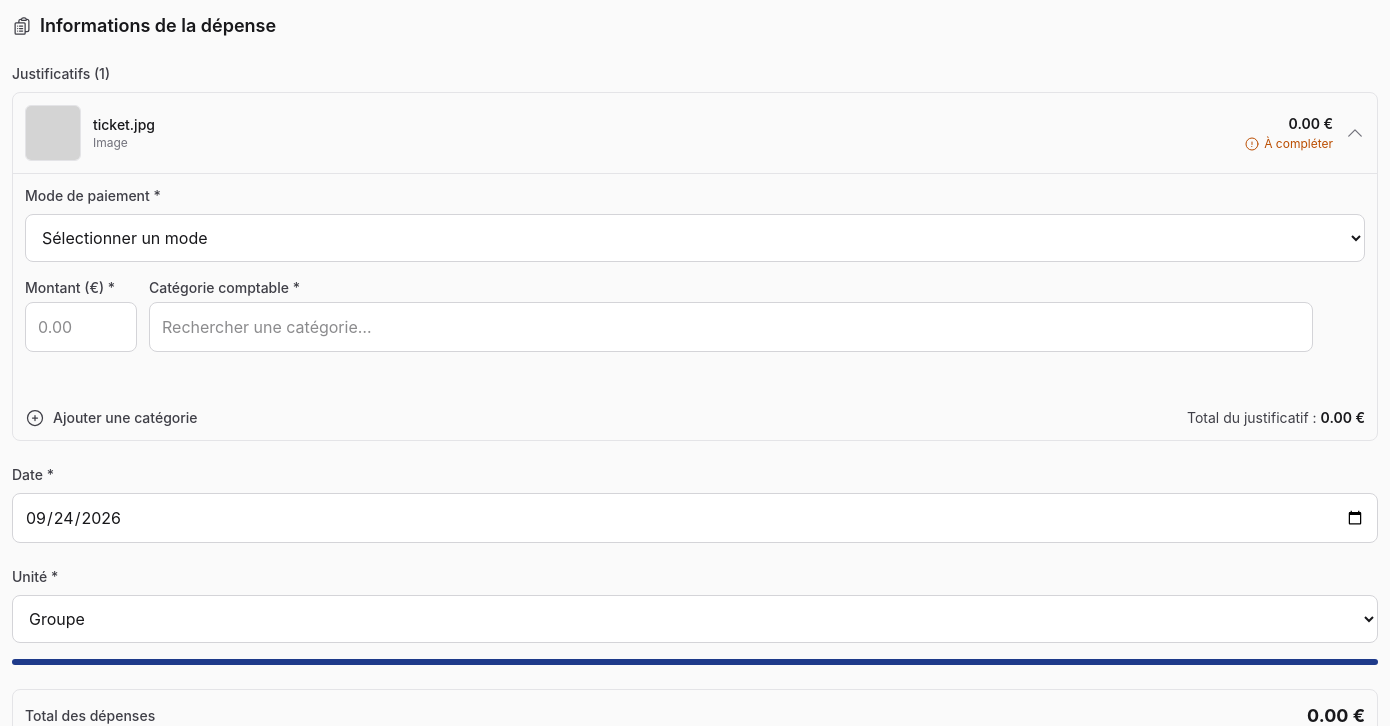
FormulaireDepense › ajoute et retire des lignes de catégorie en calculant le total
Expected: the number of number fields labelled "Montant (€) *" is 1, [25,302,137,352]
Click the button "Ajouter une catégorie".
click(111, 418)  # box [25,408,198,428]
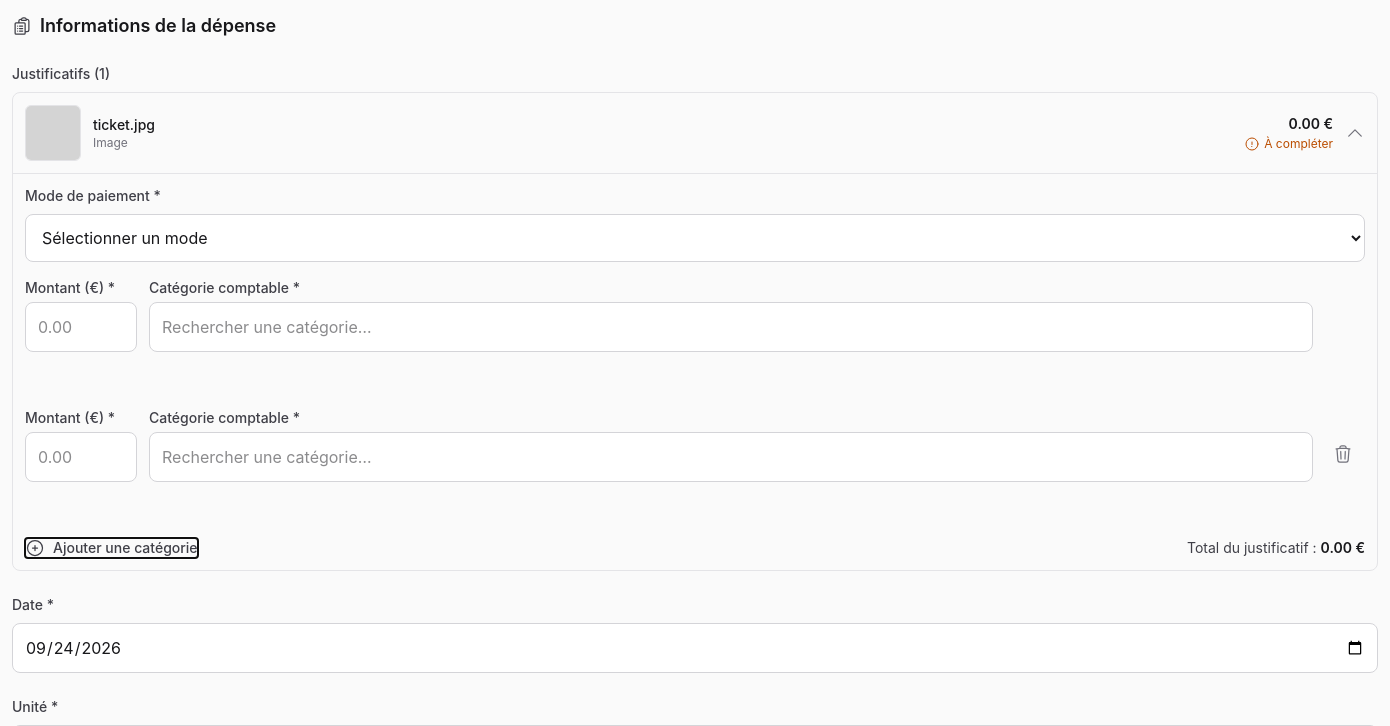
Now the number of number fields labelled "Montant (€) *" is 2
Type "12.5" into the 1st number field labelled "Montant (€) *".
click(81, 327); type("12.5")  # box [25,302,137,352]
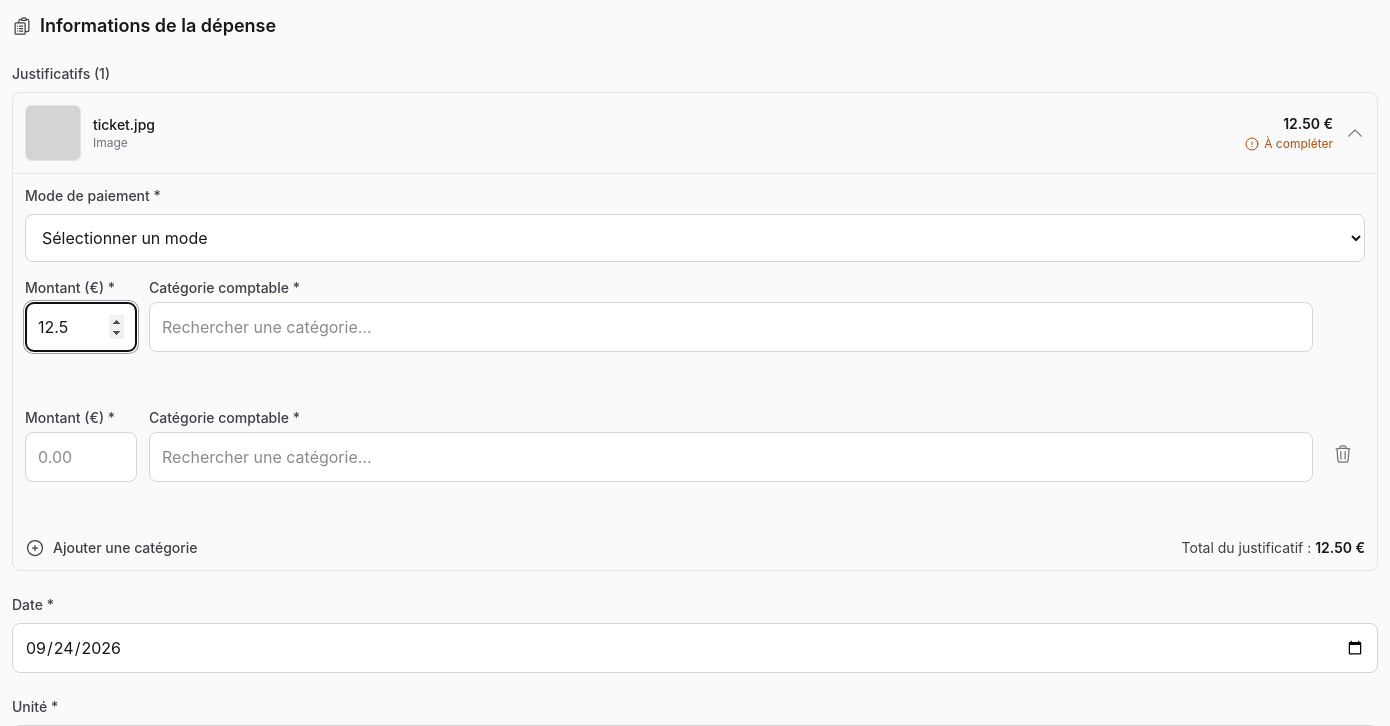
Type "7.25" into the 2nd number field labelled "Montant (€) *".
click(81, 457); type("7.25")  # box [25,432,137,482]
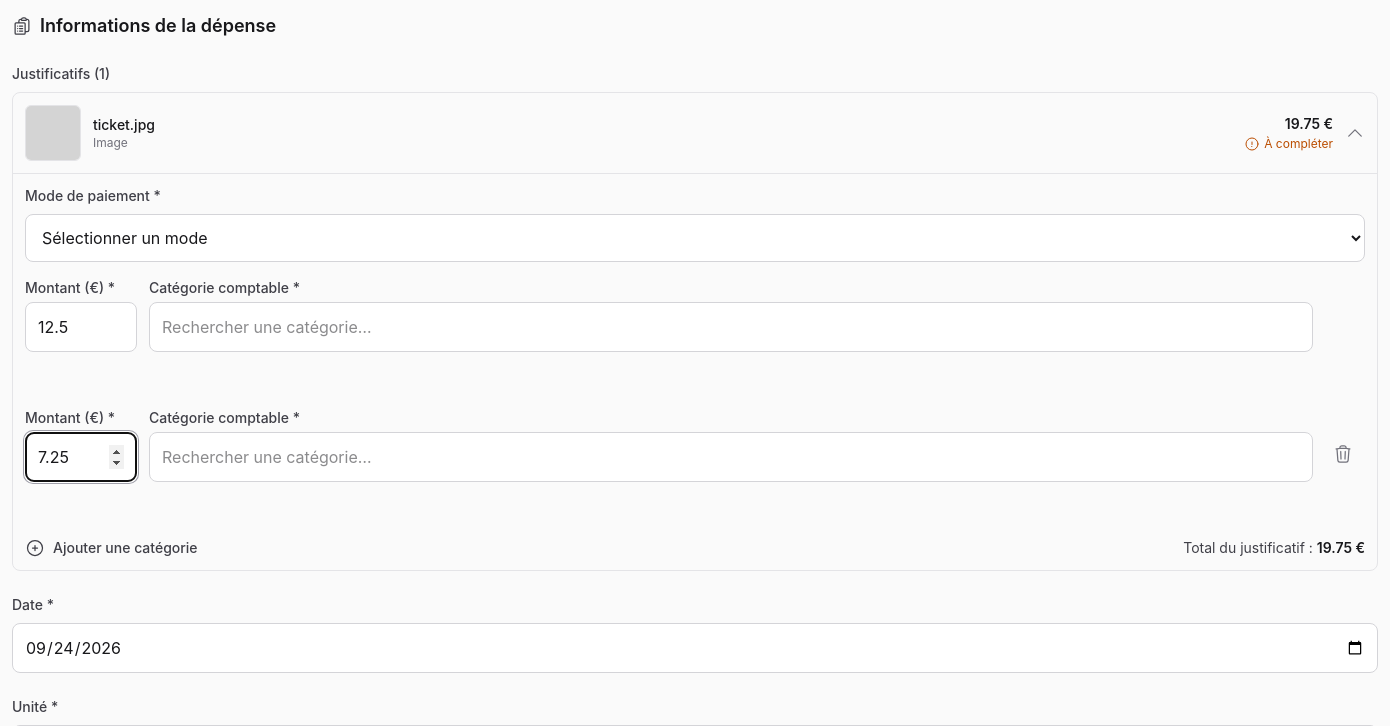
Now the text "Total du justificatif :" shows "19.75 €", box [1183,538,1365,558]
Click the button named "Supprimer la ligne 2".
click(1343, 454)  # box [1325,436,1361,472]
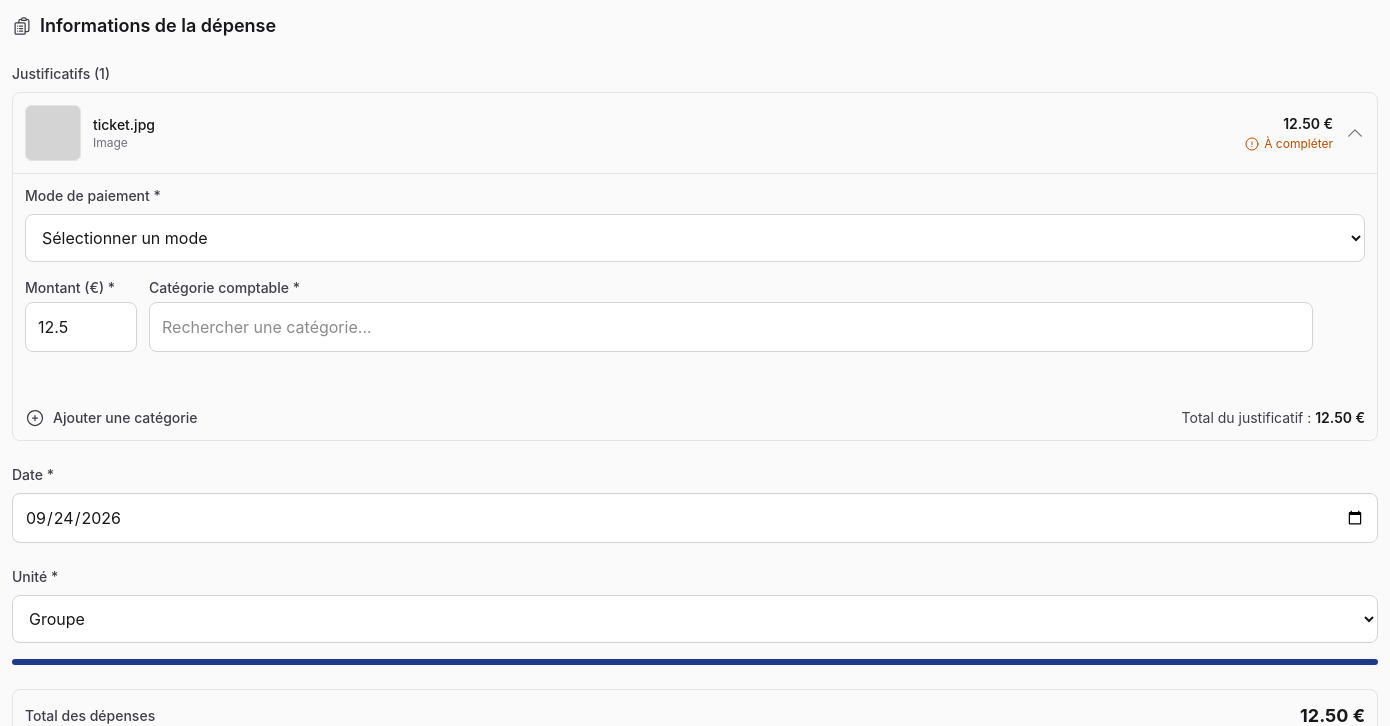
Now the number of number fields labelled "Montant (€) *" is 1, box [25,302,137,352]
Now the text "Total du justificatif :" shows "12.50 €", box [1182,408,1365,428]
